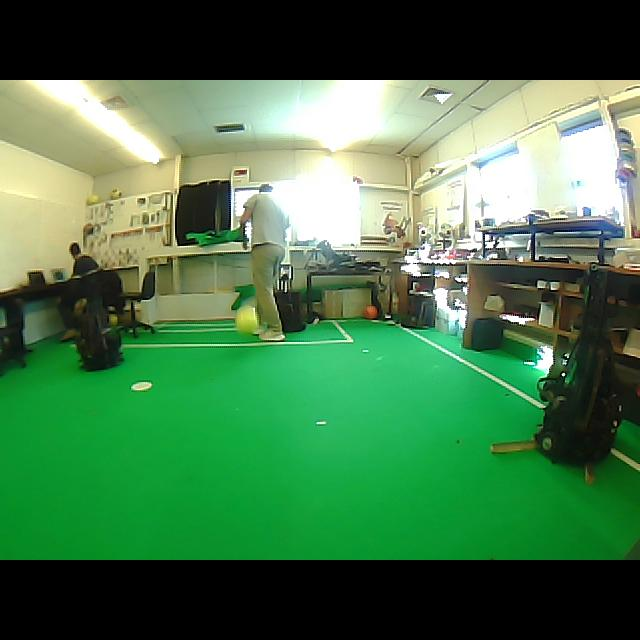ball: (235, 305, 257, 333), (364, 305, 378, 318), (86, 194, 100, 204), (109, 314, 118, 326), (110, 190, 121, 198)
robot: (535, 266, 621, 463), (78, 311, 124, 371), (275, 264, 305, 332)
